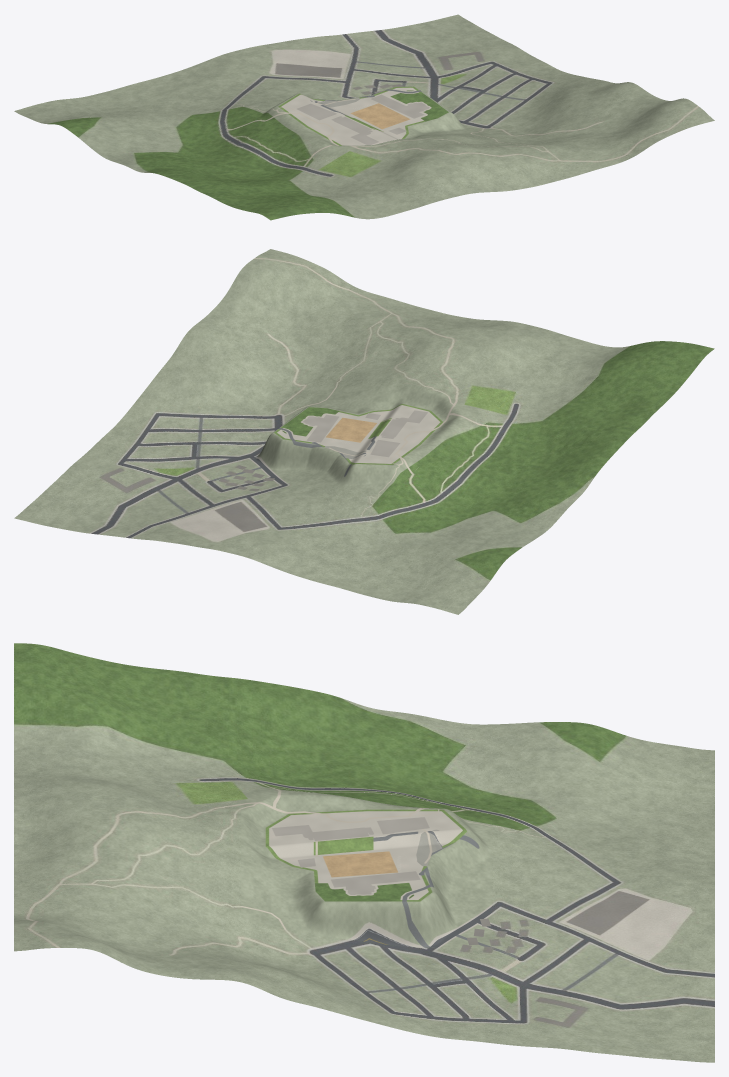
3 renders of one model, top to bottom at view 1: azimuth 30°, elevation 25°; view 2: azimuth 150°, elevation 25°; view 3: azimuth 270°, elevation 25°, orthographic. The views are drawn at different scales.
Visible parts, largest first — view 1: ground-area, ground-school; view 2: ground-area, ground-school; view 3: ground-area, ground-school.
Boxes of the visible parts, bbox=[...] form: ground-area: bbox=[14, 14, 714, 220]; ground-school: bbox=[245, 86, 494, 158]; ground-area: bbox=[14, 249, 714, 614]; ground-school: bbox=[232, 385, 482, 496]; ground-area: bbox=[14, 643, 714, 1062]; ground-school: bbox=[241, 791, 491, 948].
Size of the model in its own units: 704 by 137 by 704.
2 materials, 2 textured.
